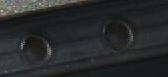joints: (99, 14, 136, 57), (17, 29, 55, 67)
